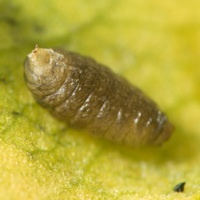insect: (24, 46, 172, 145), (174, 182, 184, 191)
